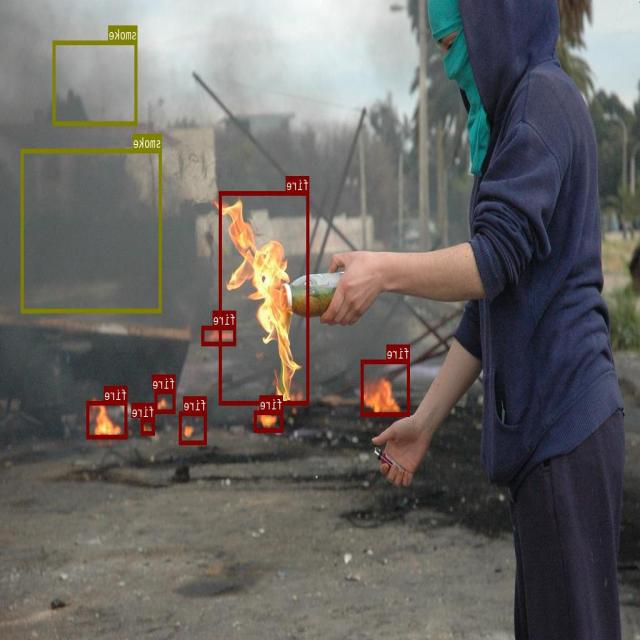fire: (220, 191, 310, 404), (362, 359, 410, 416), (87, 401, 128, 438), (179, 411, 207, 443), (202, 325, 236, 345), (255, 409, 284, 432), (155, 389, 176, 413), (142, 418, 156, 434)
smoke: (21, 148, 162, 312), (54, 40, 138, 125)
